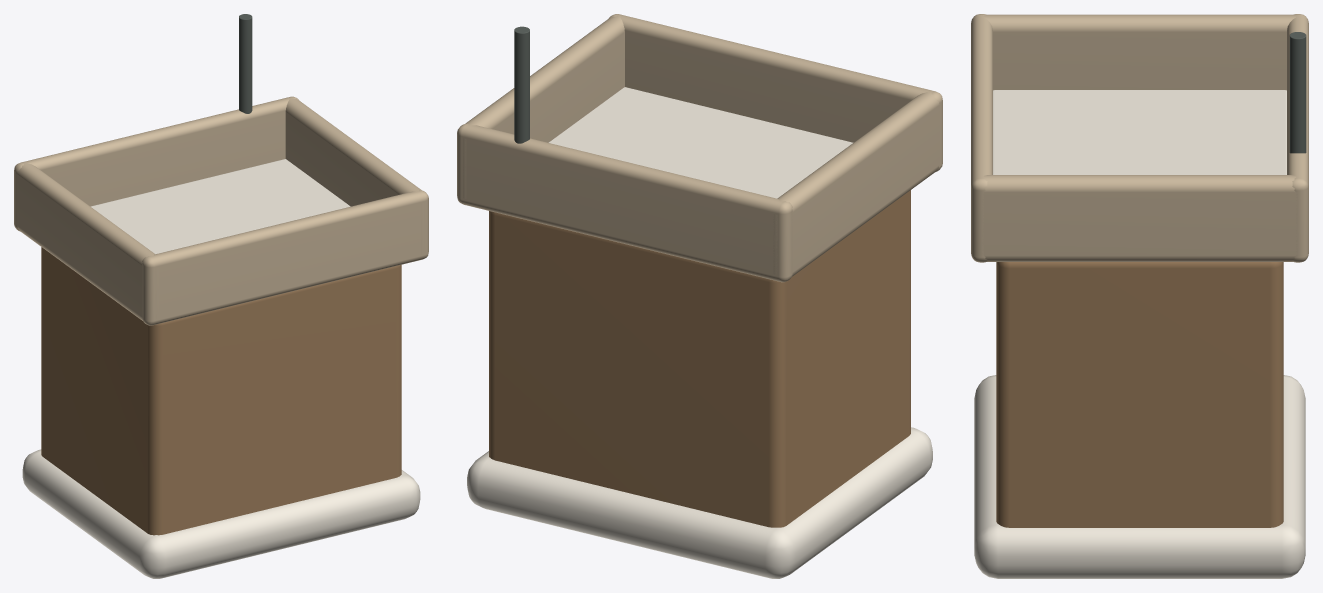
The picture shows the model from 3 angles, left to right: view 1: azimuth 30°, elevation 25°; view 2: azimuth 150°, elevation 25°; view 3: azimuth 270°, elevation 25°; orthographic projection. The views are drawn at different scales.
Parts seen in each view (by area): view 1: vanity, rim_z_1, base, rim_z_-1, basin, rim_x_-1, rim_x_1, tap; view 2: vanity, rim_z_-1, base, rim_z_1, basin, rim_x_-1, rim_x_1, tap; view 3: vanity, rim_x_1, basin, base, rim_x_-1, rim_z_1, rim_z_-1, tap.
Boxes of the visible parts, x1,y1,x2,y2 form: vanity: [41, 247, 401, 535]; rim_z_1: [142, 190, 428, 325]; base: [22, 449, 420, 578]; rim_z_-1: [14, 96, 298, 231]; basin: [90, 159, 350, 254]; rim_x_-1: [16, 163, 158, 320]; rim_x_1: [285, 98, 423, 254]; tap: [239, 14, 252, 113]; vanity: [489, 190, 910, 527]; rim_z_-1: [457, 123, 792, 282]; base: [467, 427, 932, 578]; rim_z_1: [609, 14, 942, 171]; basin: [548, 87, 853, 198]; rim_x_-1: [773, 91, 940, 276]; rim_x_1: [463, 15, 624, 198]; tap: [514, 26, 529, 143]; vanity: [996, 262, 1283, 527]; rim_x_1: [982, 175, 1297, 261]; basin: [993, 90, 1286, 174]; base: [974, 375, 1305, 578]; rim_x_-1: [982, 14, 1297, 90]; rim_z_1: [971, 14, 992, 262]; rim_z_-1: [1287, 14, 1308, 262]; tap: [1289, 32, 1306, 153].
Bounding box in the file's own units: 0.6 × 0.85 × 0.5.
